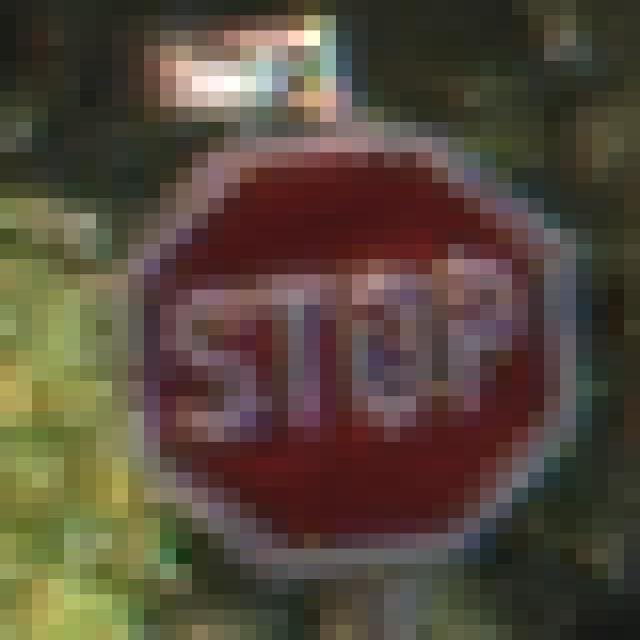STOP: (97, 93, 545, 550)
